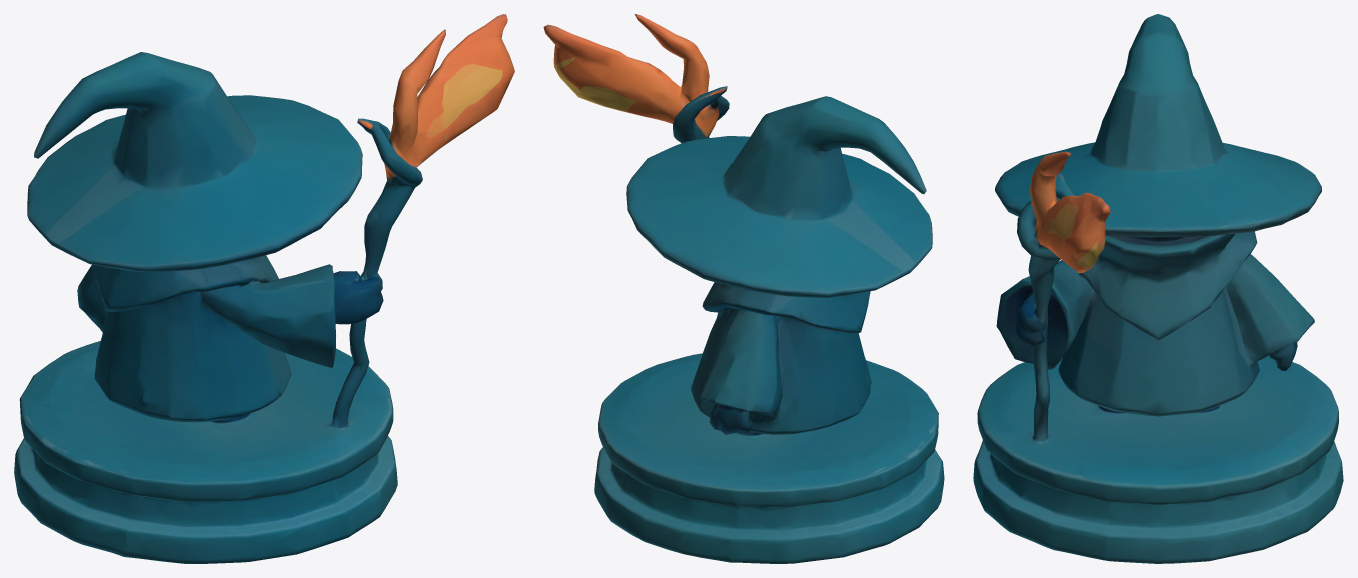
The model's file is ganon_bishop_wizzrobe.glb.
The picture shows the model from 3 angles, left to right: view 1: azimuth 30°, elevation 25°; view 2: azimuth 150°, elevation 25°; view 3: azimuth 270°, elevation 25°; orthographic projection. The views are drawn at different scales.
Visible parts, largest first — view 1: tripo_node_56855248-e808-433e-9ede-24590c6c7989; view 2: tripo_node_56855248-e808-433e-9ede-24590c6c7989; view 3: tripo_node_56855248-e808-433e-9ede-24590c6c7989.
Boxes of the visible parts, left/top/right/bottom form: tripo_node_56855248-e808-433e-9ede-24590c6c7989: left=14, top=14, right=514, bottom=563; tripo_node_56855248-e808-433e-9ede-24590c6c7989: left=543, top=14, right=944, bottom=563; tripo_node_56855248-e808-433e-9ede-24590c6c7989: left=973, top=14, right=1343, bottom=563.
Size of the model in its own units: 0.9332 by 0.8911 by 0.6981.
Materials: 1 (1 with a texture image).
